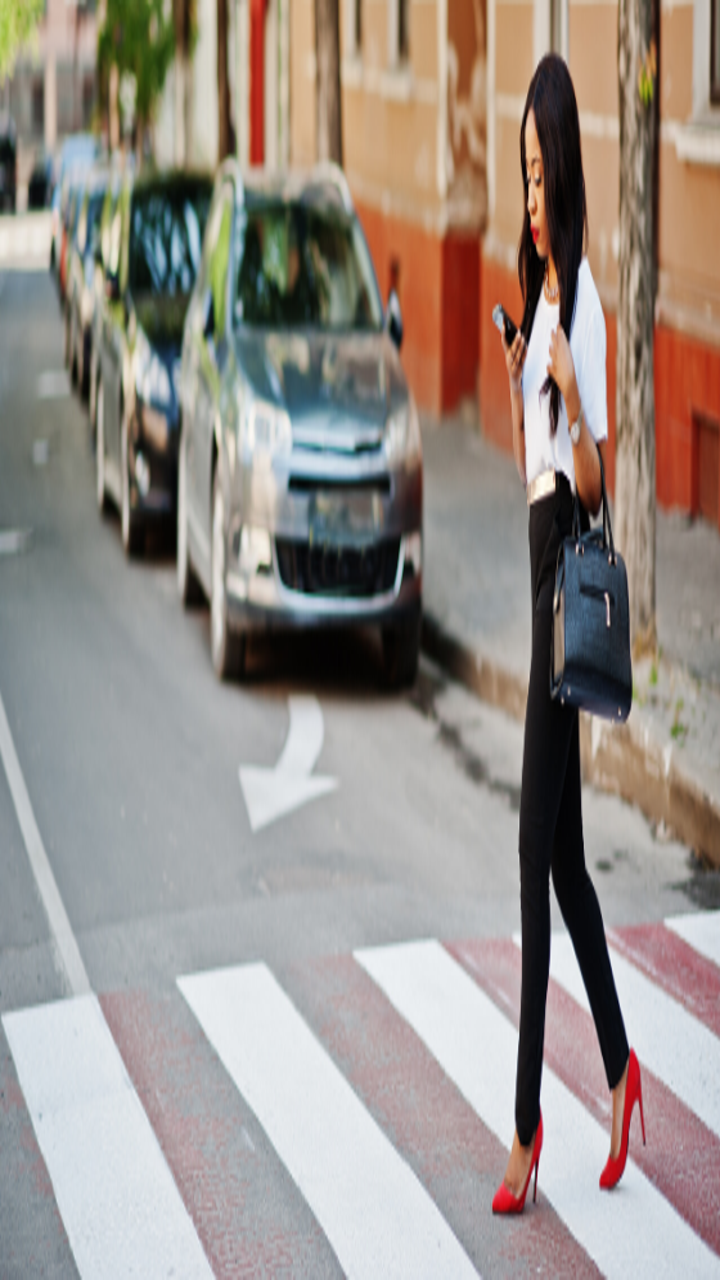pedestrian: (400, 43, 700, 1237)
vehicle: (180, 165, 446, 703), (76, 131, 279, 581), (60, 156, 164, 427)
